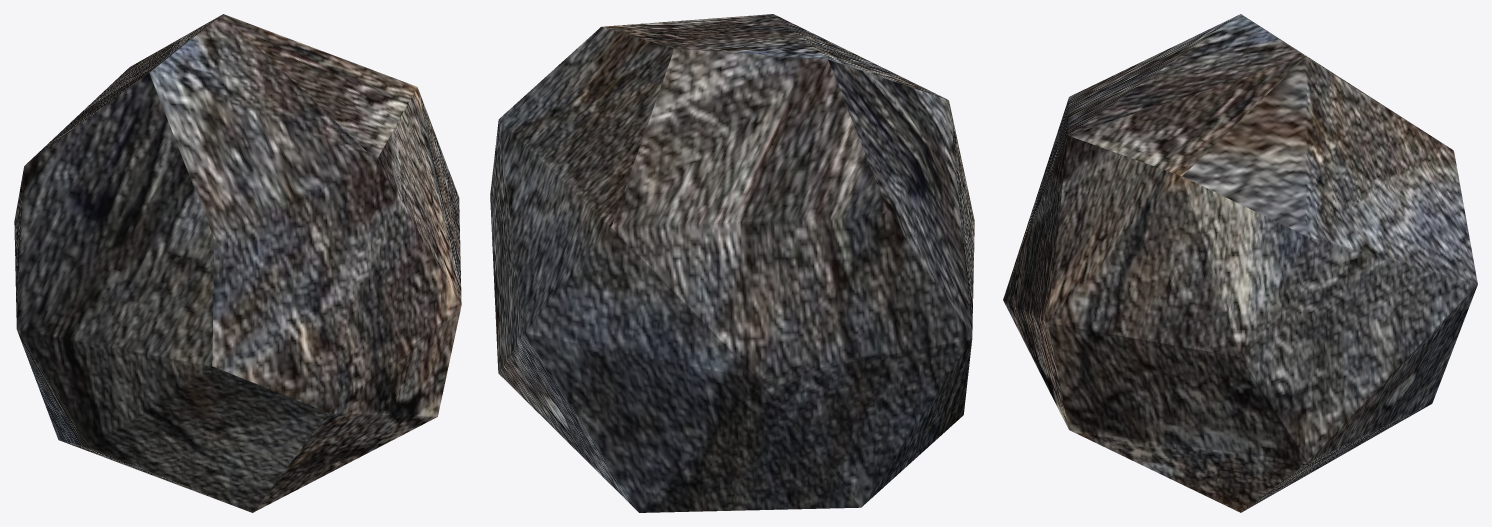
Rendered from Big Rock.glb.
3 views of the same model, side by side, from view 1: azimuth 30°, elevation 25°; view 2: azimuth 150°, elevation 25°; view 3: azimuth 270°, elevation 25° (orthographic). The views are drawn at different scales.
Parts seen in each view (by area): view 1: Rock; view 2: Rock; view 3: Rock.
Boxes of the visible parts, bbox=[...] form: Rock: bbox=[14, 14, 461, 512]; Rock: bbox=[490, 14, 974, 512]; Rock: bbox=[1003, 14, 1477, 512].
Size of what is drawn, in the model's own units: 11.72 by 11.16 by 11.17.
1 material, 1 textured.
